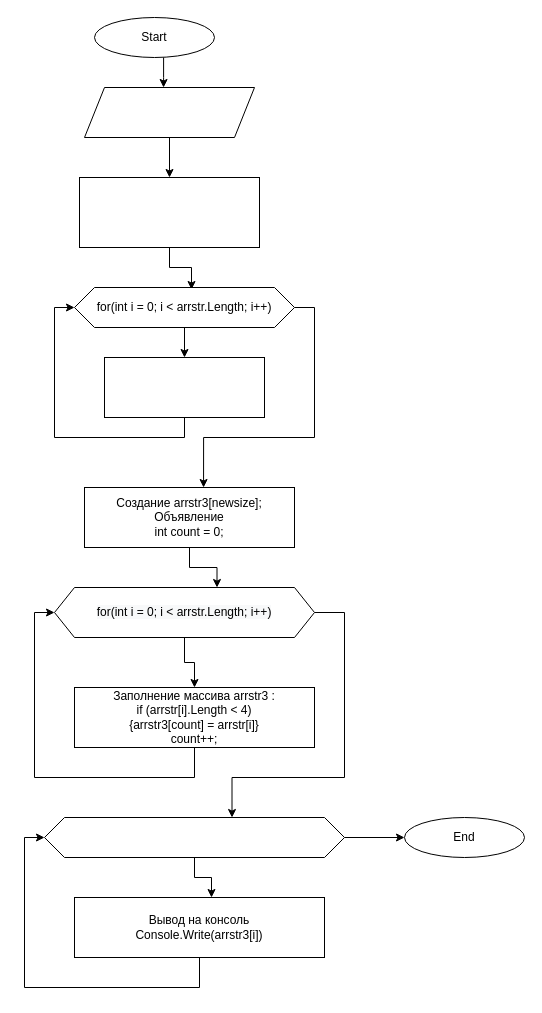
This 542x1013 diagram has some shape labels left out. Each missing label, with the centre of its shape:
"for(int i = 0; i < newsize; i++)" goes at [194,837].
"if (arrstr[i].Length < 4) {newsize++}" goes at [184,387].
"Получение размера массива arrstr.Length Объявление int newsize = 0;" goes at [169,212].
"Ручной вод массива строк arrstr[]{}" goes at [169,112].
